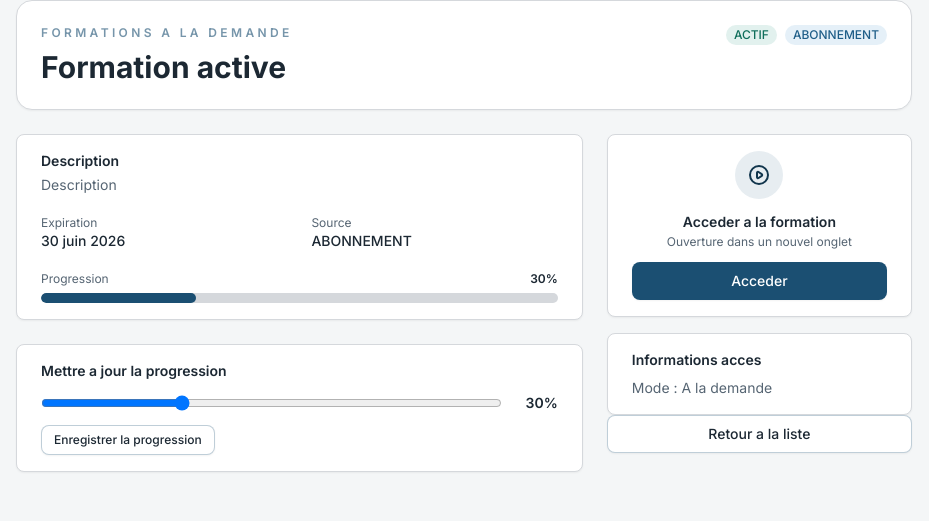
Test: AccesFormation › affiche la progression en lecture seule pour un accès actif
Expected: the heading "Formation active" is shown, [41,49,293,85]
Expected: the text "30%" below "Source" is shown, [530,271,558,287]
Step 1. Set the slider to "55" → (294, 403), box [41,395,502,411]
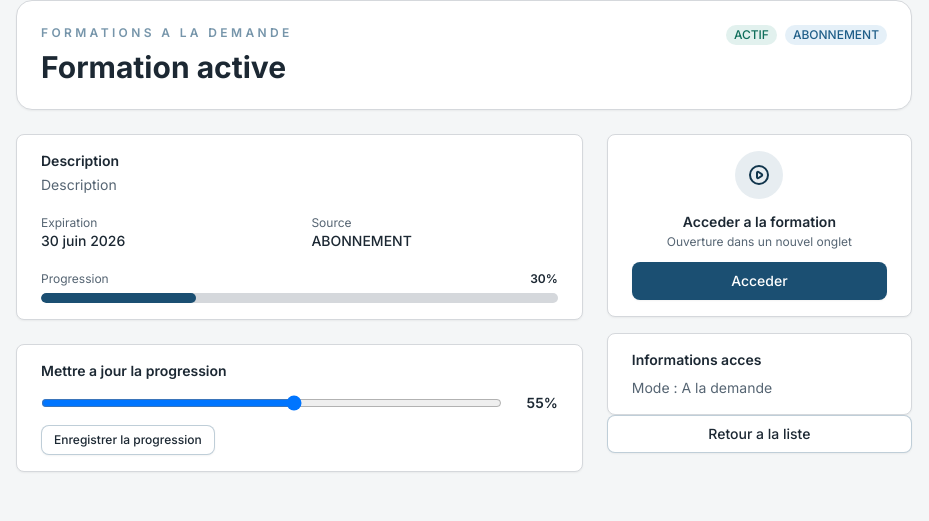
Expected: the text "55%" is shown, [527,394,558,411]
Step 2. Click the button "Enregistrer la progression" → click(128, 440), box [41,425,215,455]
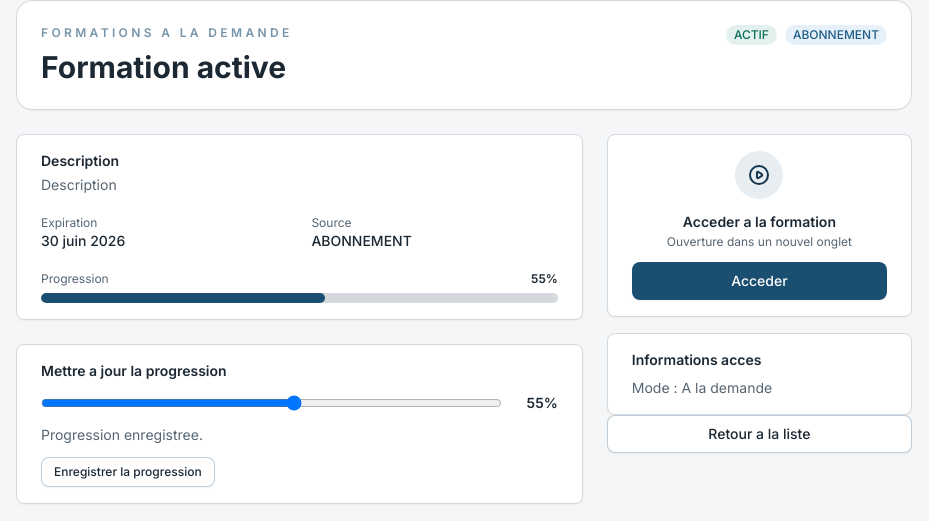
Expected: the text "Progression enregistree." is shown, [41,426,203,443]
